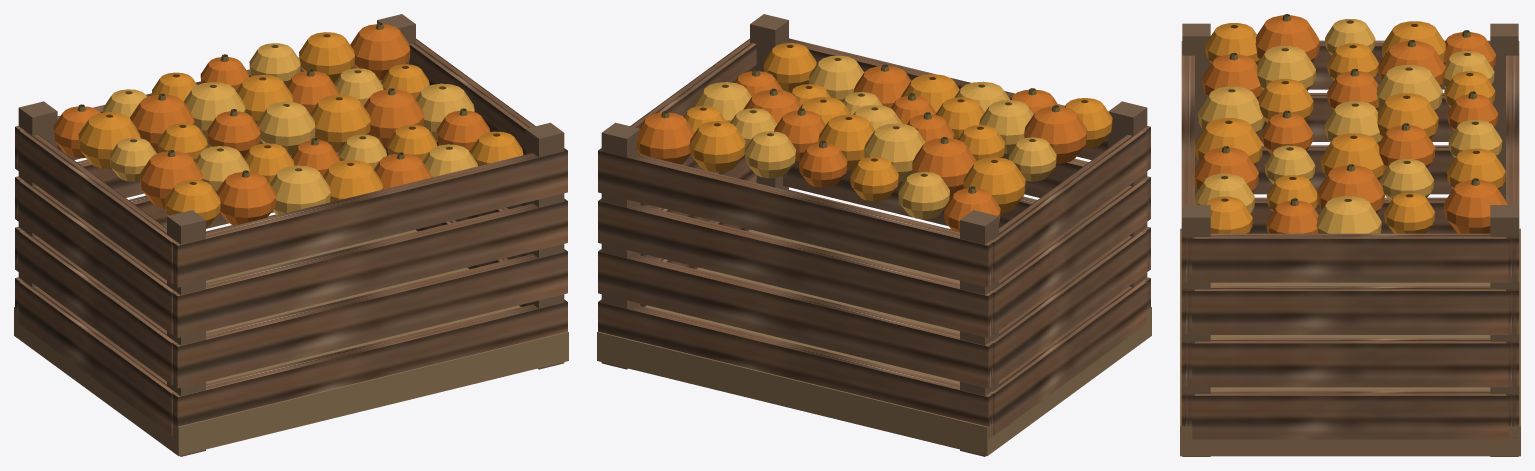
Rendered from produce-crate.glb.
3 renders of one model, left to right at view 1: azimuth 30°, elevation 25°; view 2: azimuth 150°, elevation 25°; view 3: azimuth 270°, elevation 25°, orthographic. The views are drawn at different scales.
Bounding box in the file's own units: 0.854 × 0.5383 × 0.62.
Materials: 1 (1 with a texture image).
